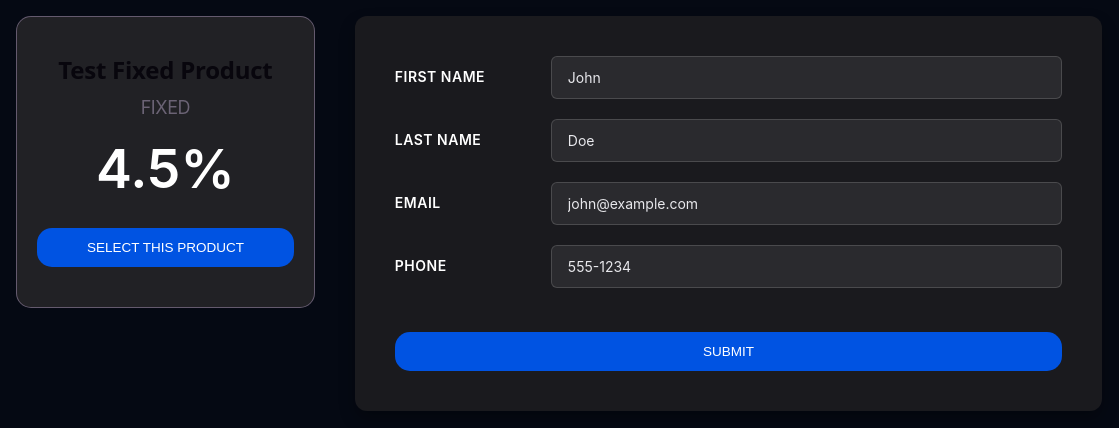
Scenario: Form › disables the submit button while submitting
Click the button "Submit": x=728, y=352 [395,332,1062,371]
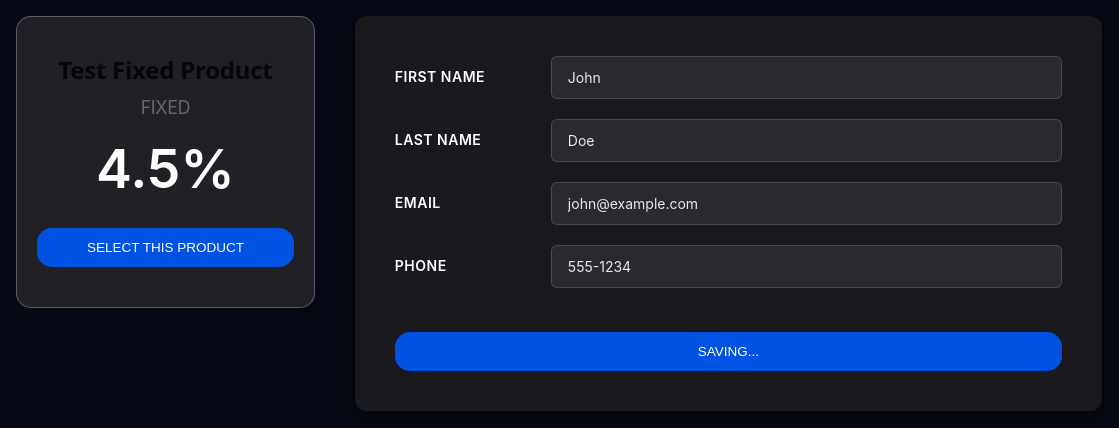
Now the button "Saving..." is disabled, box [395,332,1062,371]
